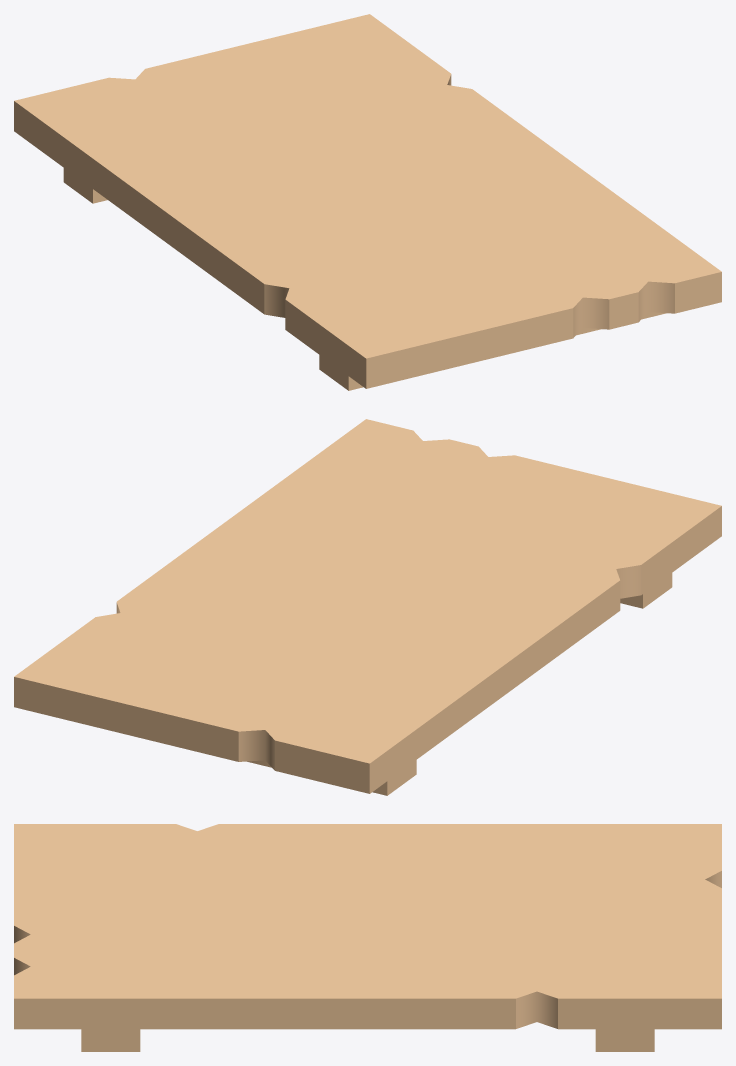
The model's file is cuttingBoardJapanese.dae.
3 renders of one model, top to bottom at view 1: azimuth 30°, elevation 25°; view 2: azimuth 150°, elevation 25°; view 3: azimuth 270°, elevation 25°, orthographic.
Parts seen in each view (by area): view 1: cuttingBoardJapanese; view 2: cuttingBoardJapanese; view 3: cuttingBoardJapanese.
Boxes of the visible parts, <box> form: cuttingBoardJapanese: <box>14,14,721,390</box>; cuttingBoardJapanese: <box>14,419,721,795</box>; cuttingBoardJapanese: <box>14,824,721,1051</box>.
Bounding box in the file's own units: 0.49 × 0.08 × 0.84.
